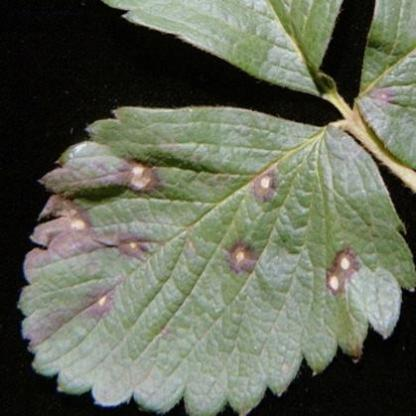Strawberry_Leaf_Spot: (15, 106, 415, 415), (353, 0, 415, 169)
